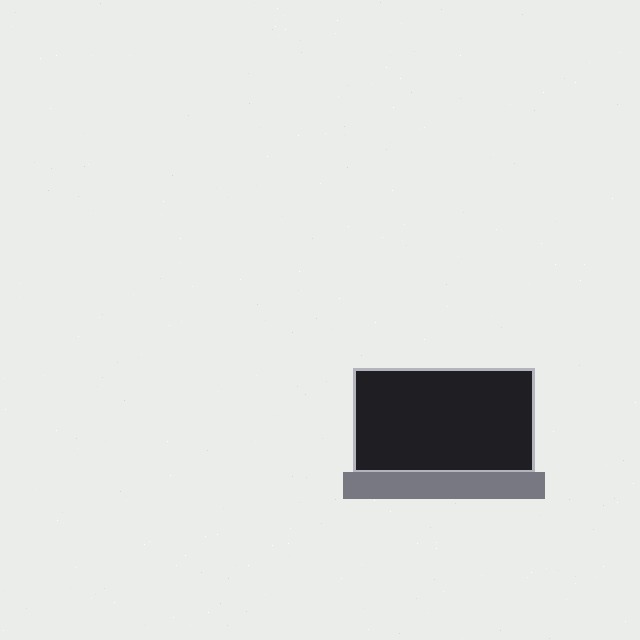laptop: (353, 368, 534, 498)
